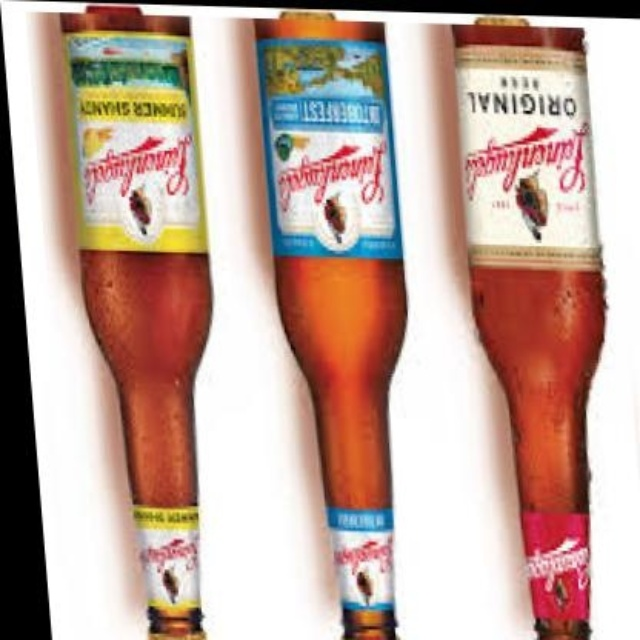trash: (255, 14, 405, 638), (62, 6, 209, 638), (454, 20, 603, 638)
